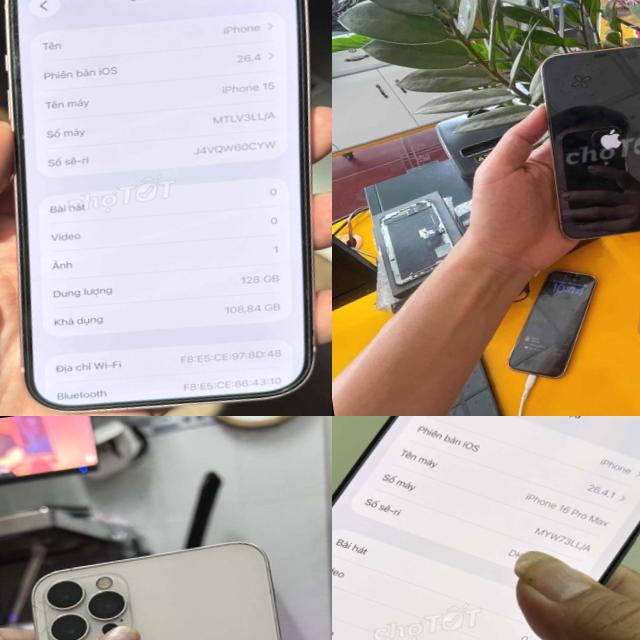gen_11: (19, 530, 330, 640)
gen_12_13: (529, 33, 640, 256)
gen_15: (0, 0, 332, 416)
gen_16: (332, 416, 640, 640)
